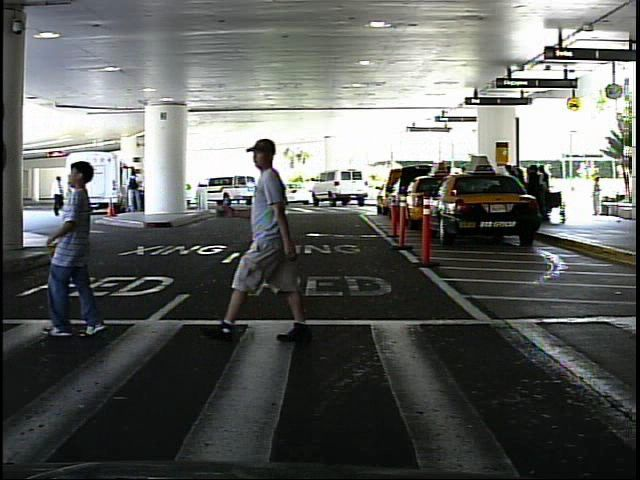person: (211, 129, 337, 344), (38, 156, 123, 345), (49, 171, 68, 221), (588, 172, 606, 217)
